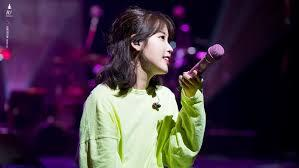earphone: (132, 39, 143, 48)
